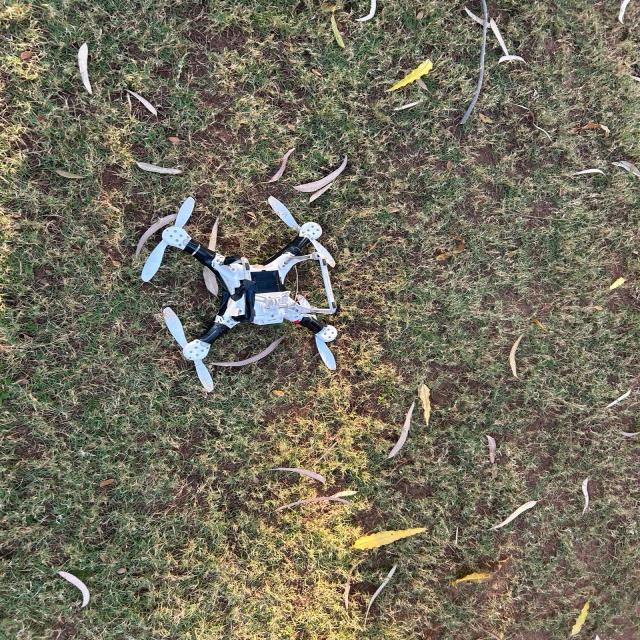drone: (121, 190, 356, 388)
